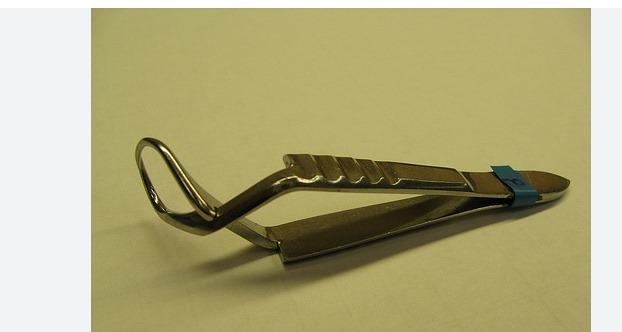Jones Towel Clamp: (128, 126, 576, 274)
